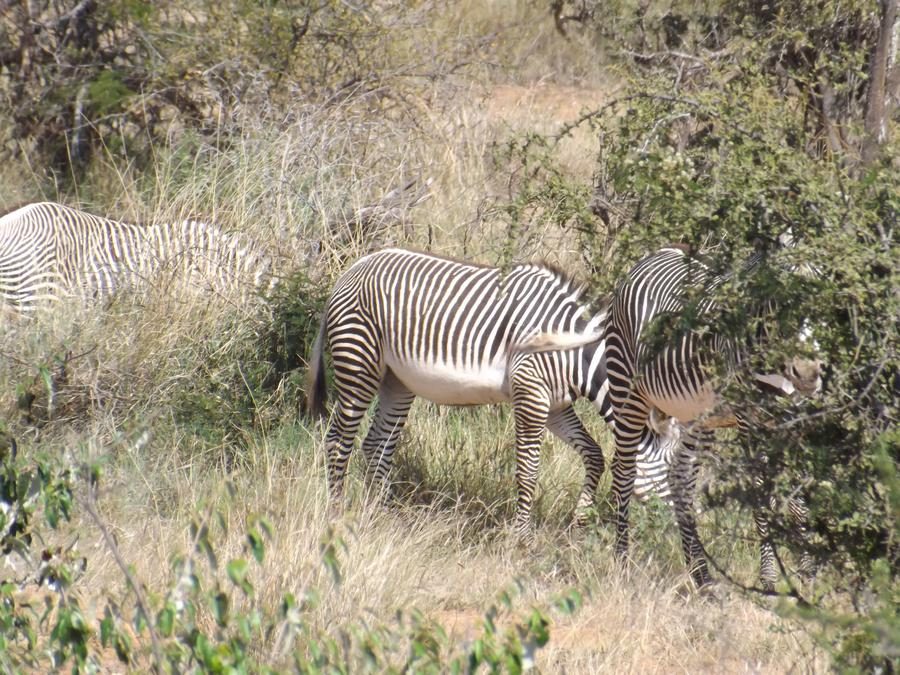zebra_grevys: (327, 221, 557, 410)
